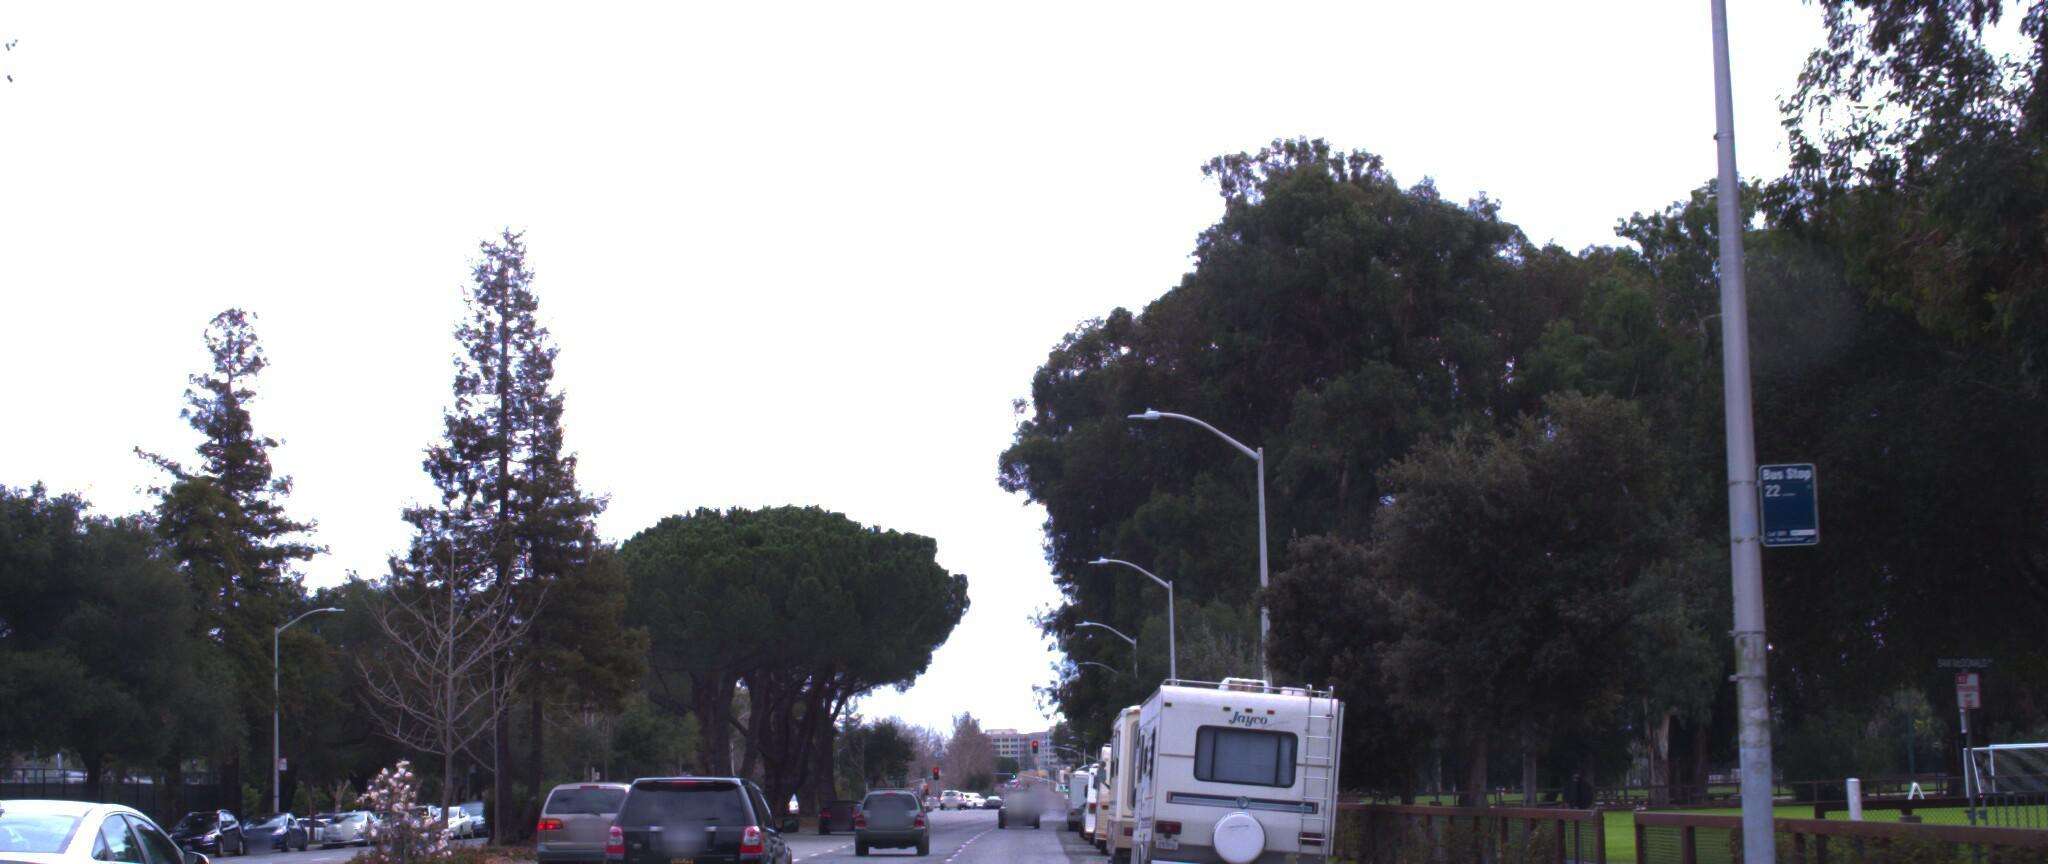car: (0, 769, 276, 864), (605, 750, 803, 864), (532, 750, 679, 859), (865, 762, 939, 831)
other_vehicle: (1112, 642, 1358, 864), (1092, 664, 1266, 864)
